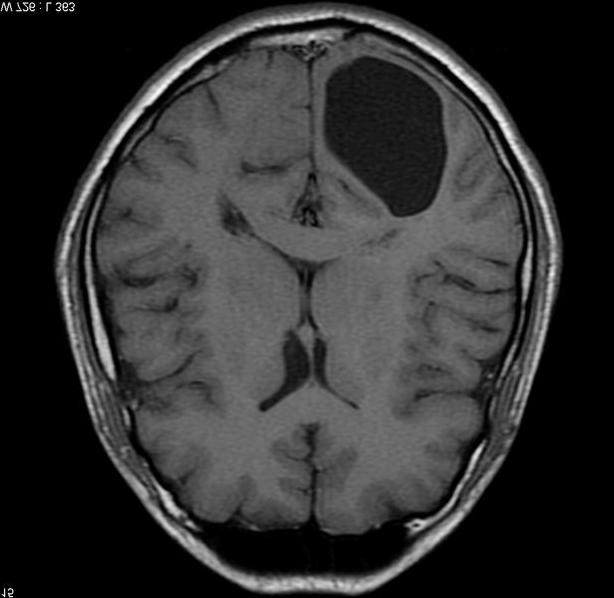Normal_Brain: (2, 1, 614, 598)
